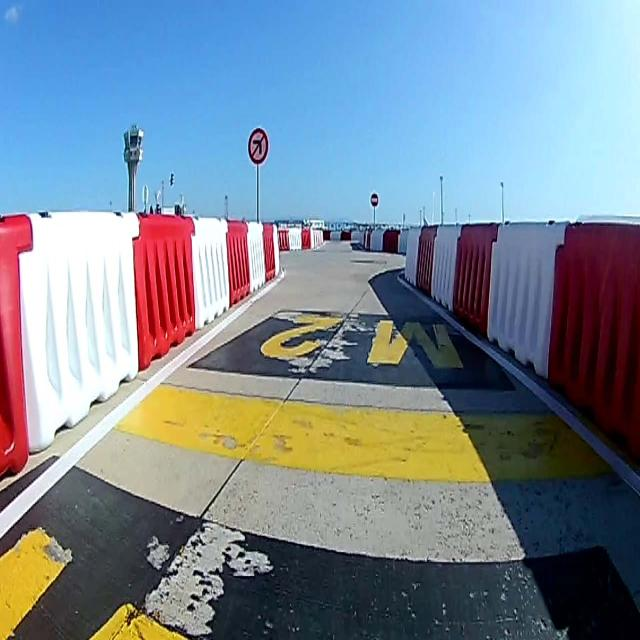soladonulmez: (248, 129, 269, 163)
